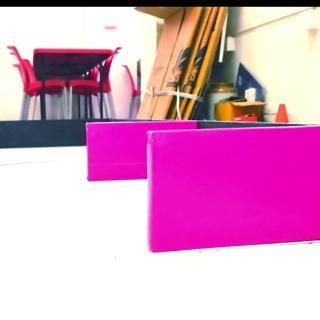xparking: (150, 130, 320, 250), (86, 119, 148, 179)
